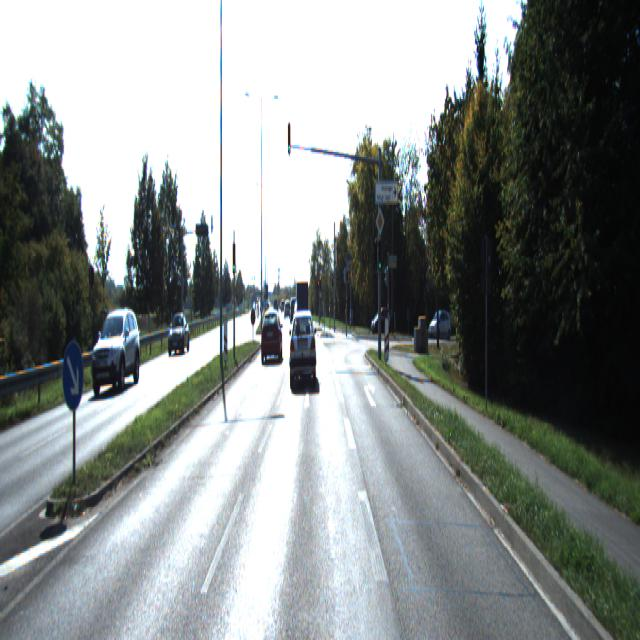Car: (90, 311, 141, 394), (289, 316, 317, 389), (260, 312, 283, 367), (168, 313, 190, 356), (296, 280, 310, 340)
